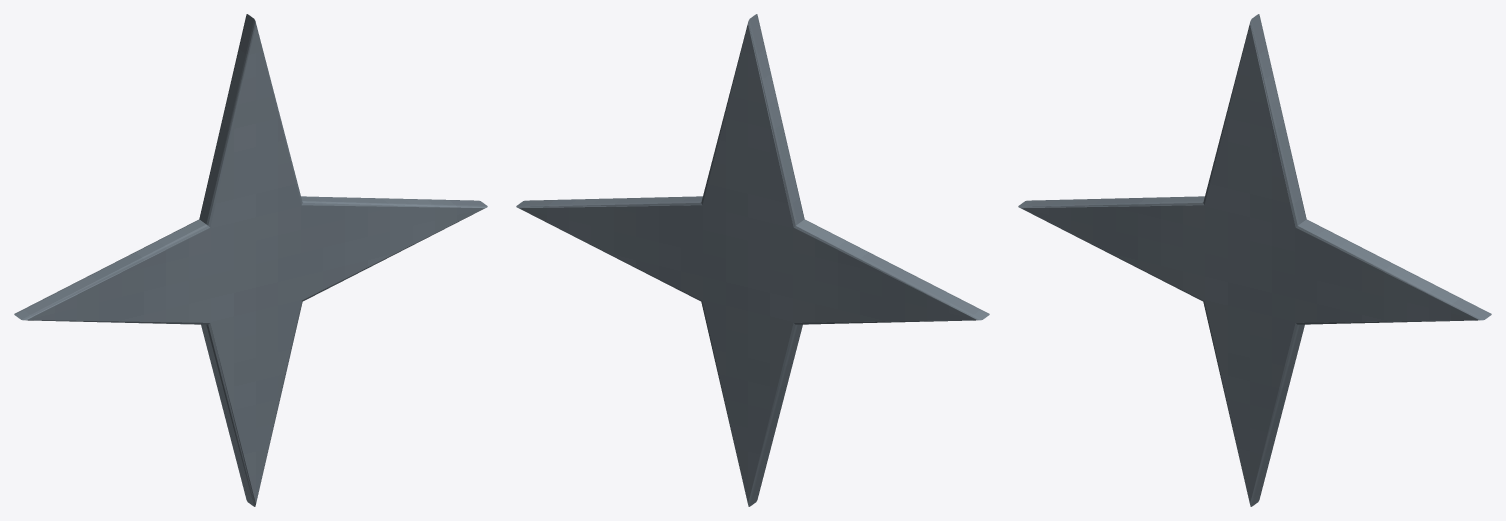
Rendered from shuriken.lod1.glb.
The picture shows the model from 3 angles, left to right: view 1: azimuth 30°, elevation 25°; view 2: azimuth 150°, elevation 25°; view 3: azimuth 330°, elevation 25°; orthographic projection.
Visible parts, largest first — view 1: steel.0; view 2: steel.0; view 3: steel.0.
Part boxes in pixels (x1,y1,x2,y2): steel.0: (14, 14, 487, 506); steel.0: (516, 14, 989, 506); steel.0: (1018, 14, 1491, 506).
Size of the model in its own units: 0.3257 by 0.3257 by 0.012.
Materials: 1 (1 with a texture image).
